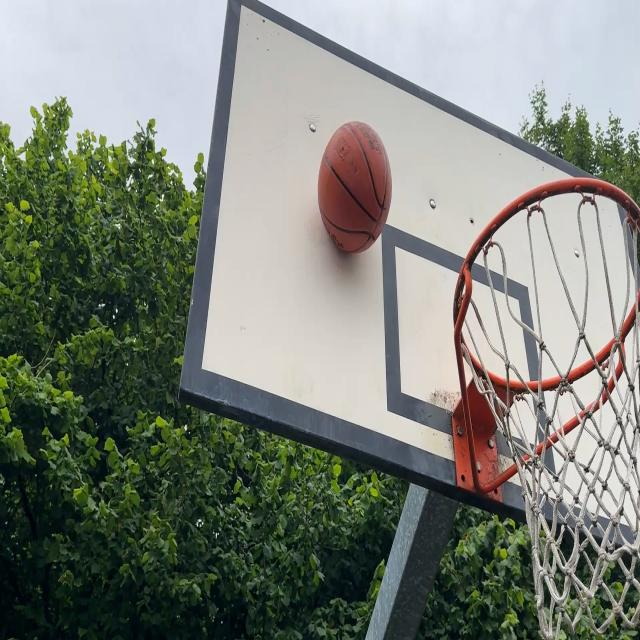rebound_hit: (316, 115, 394, 257)
